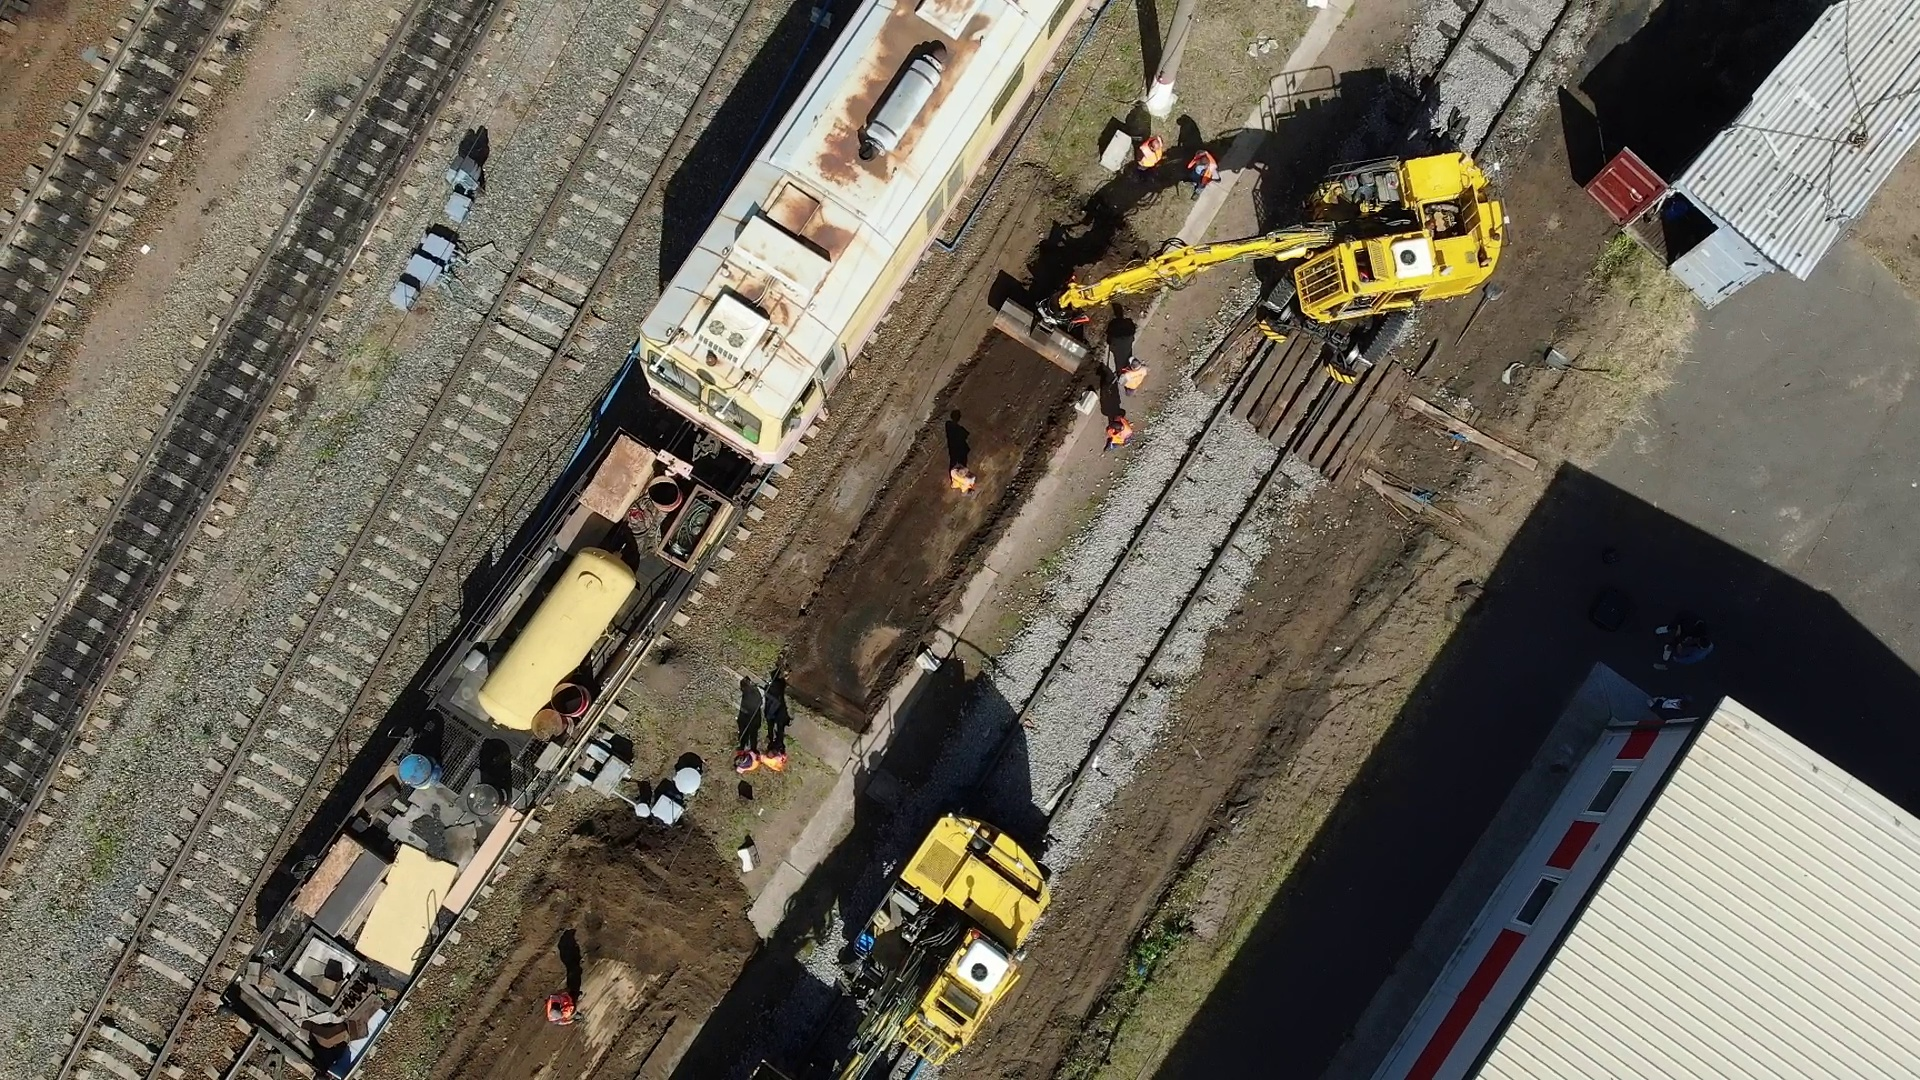kjtv: (798, 814, 1053, 1080), (1219, 145, 1503, 331)
